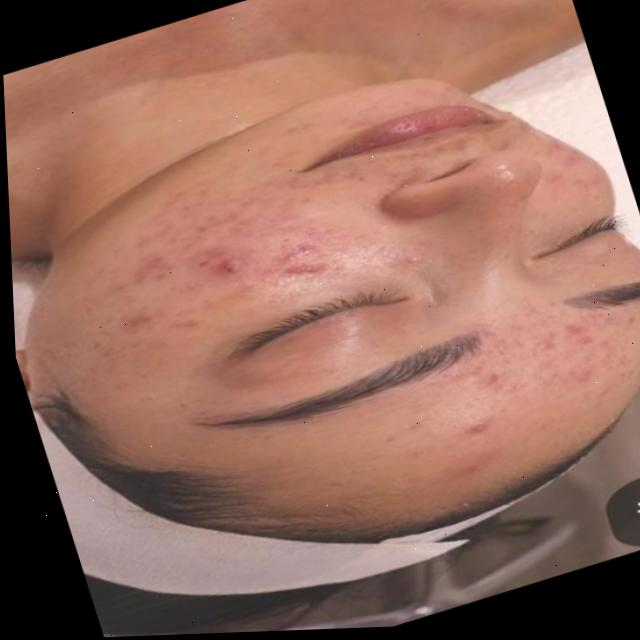Rosacea: (409, 336, 640, 492), (182, 209, 333, 306)
